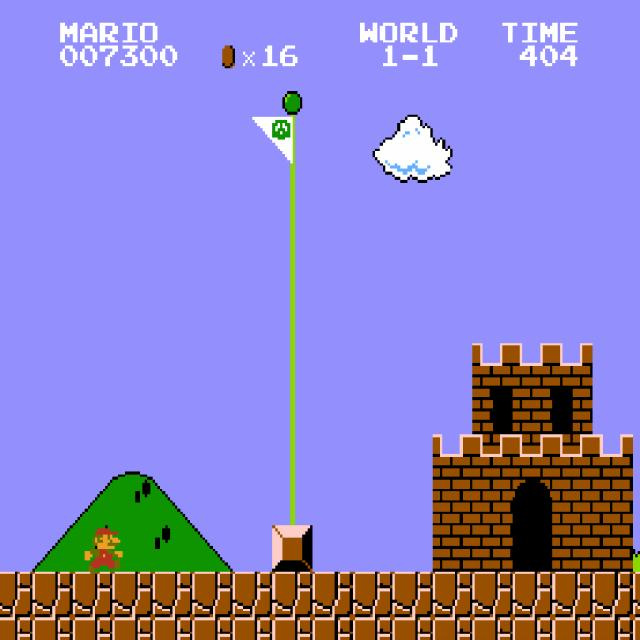brick_block: (552, 526, 593, 571)
goal_pole: (272, 114, 313, 160), (272, 160, 313, 206), (272, 297, 313, 343), (272, 434, 313, 480), (272, 480, 313, 526), (272, 69, 313, 114), (272, 206, 313, 251), (272, 252, 313, 297), (272, 343, 313, 388), (272, 389, 313, 434)
hard_block: (272, 526, 313, 571)
little_mario: (82, 526, 125, 574)
undestructible_block: (32, 572, 73, 617), (72, 572, 113, 617), (112, 572, 153, 617), (152, 572, 193, 617), (192, 572, 233, 617), (232, 572, 273, 617), (272, 572, 313, 617), (312, 572, 353, 617), (352, 572, 393, 617), (392, 572, 433, 617), (432, 572, 473, 617), (472, 572, 513, 617), (512, 572, 553, 617), (552, 572, 593, 617), (592, 572, 633, 617), (0, 571, 32, 617), (32, 617, 73, 640), (72, 617, 113, 640), (112, 617, 153, 640), (152, 617, 193, 640), (192, 617, 233, 640), (232, 617, 273, 640), (272, 617, 313, 640), (312, 617, 353, 640), (352, 617, 393, 640), (392, 617, 433, 640), (432, 617, 473, 640), (472, 617, 513, 640), (512, 617, 553, 640), (552, 617, 593, 640), (592, 617, 633, 640), (0, 617, 32, 639), (633, 572, 640, 617), (633, 617, 640, 640)
